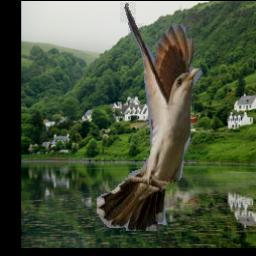Cuckoo: (97, 3, 202, 232)
